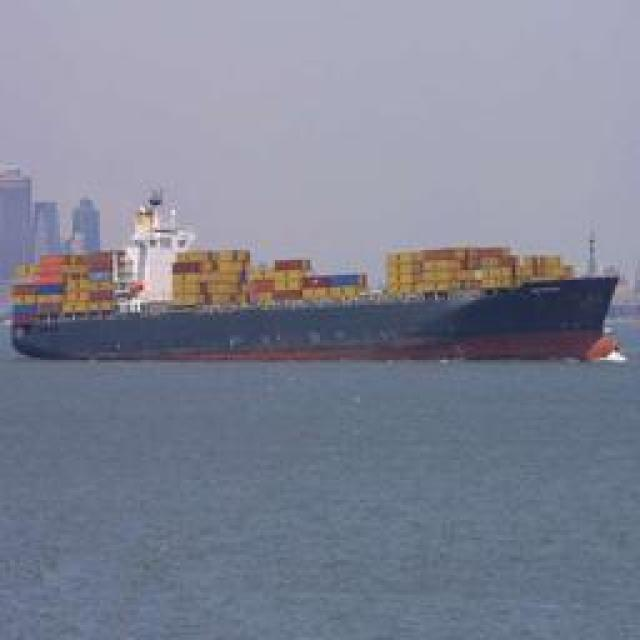CIV_Ship: (12, 240, 622, 355)
